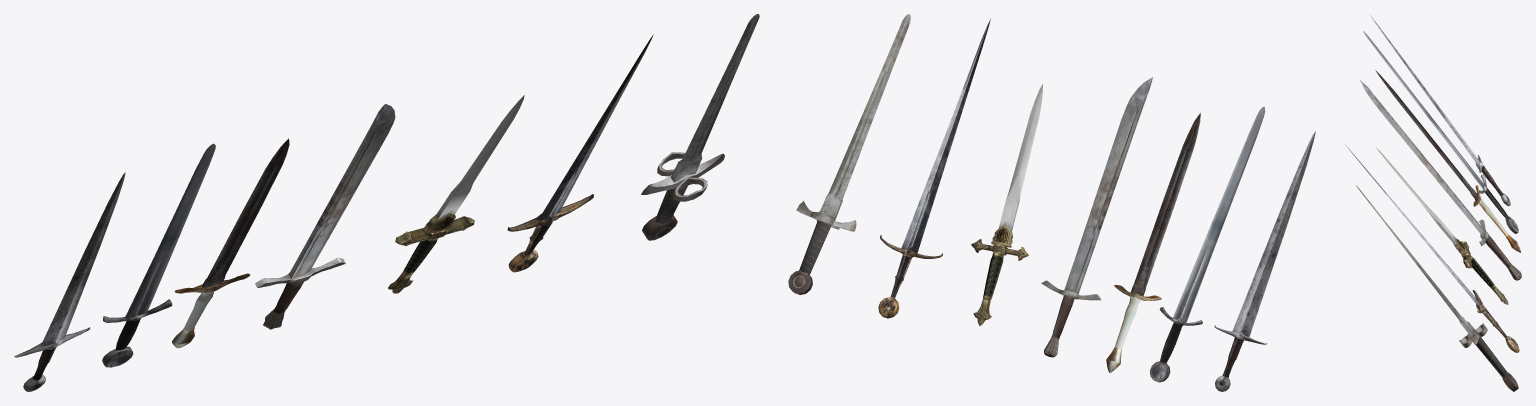
File: Espada02.fbx
3 renders of one model, left to right at view 1: azimuth 30°, elevation 25°; view 2: azimuth 150°, elevation 25°; view 3: azimuth 270°, elevation 25°, orthographic. The views are drawn at different scales.
Visible parts, largest first — view 1: E7.001; view 2: E7.001; view 3: E7.001.
Boxes of the visible parts, <box> form: E7.001: <box>14,14,759,391</box>; E7.001: <box>788,14,1315,391</box>; E7.001: <box>1345,15,1521,391</box>.
Size of the model in its own units: 313 by 147 by 115.
